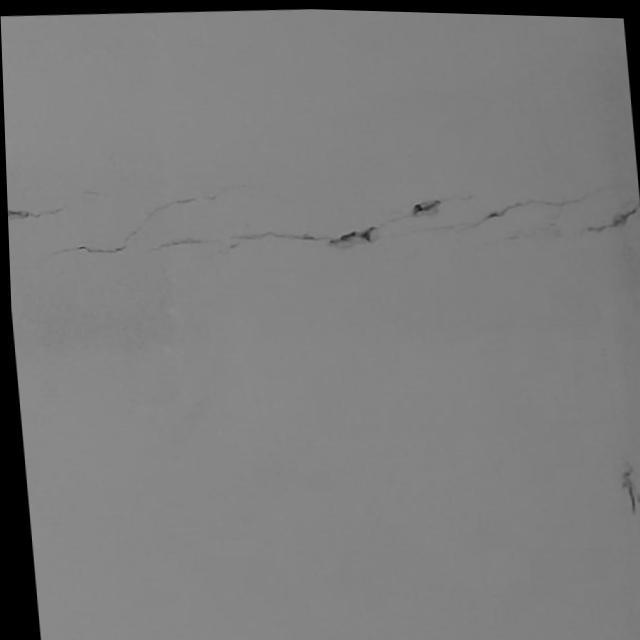Crack: (11, 173, 634, 254)
